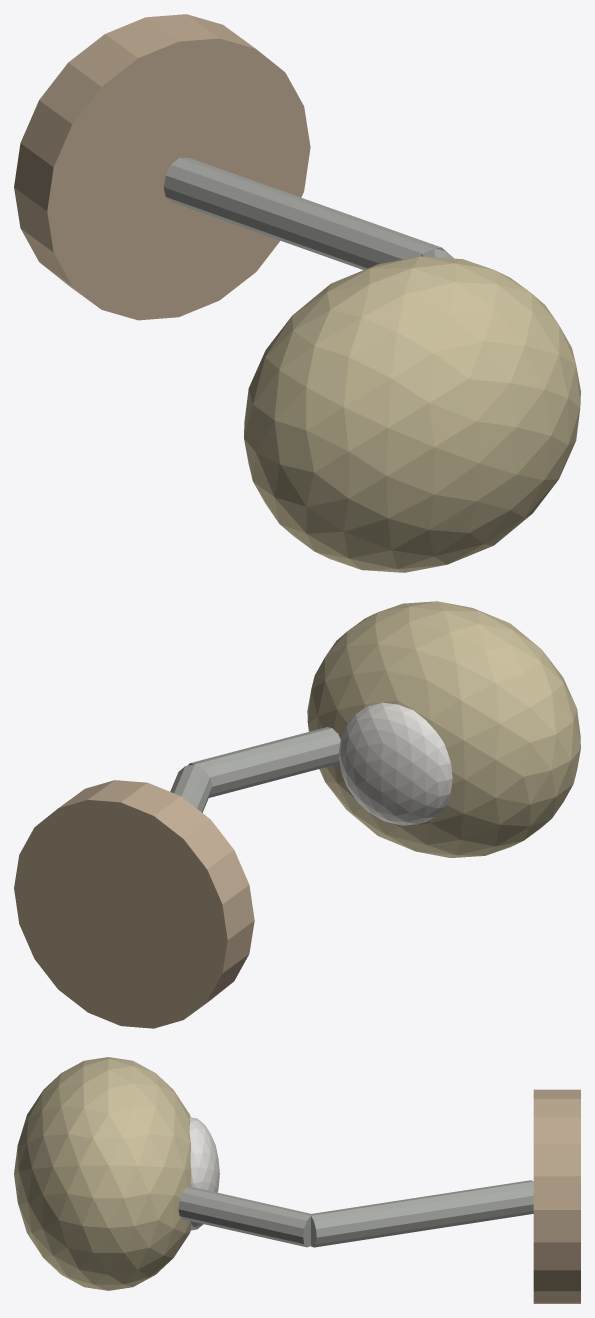
Rendered from desk_lamp.glb.
3 views of the same model, one above another, from view 1: azimuth 30°, elevation 25°; view 2: azimuth 150°, elevation 25°; view 3: azimuth 270°, elevation 25° (orthographic). The views are drawn at different scales.
Parts seen in each view (by area): view 1: shade, base, lower; view 2: base, shade, bulb, upper, lower; view 3: shade, base, lower, upper, bulb.
Boxes of the visible parts, box(x1,y1,x2,y2) form: shade: box(244, 256, 580, 572); base: box(14, 14, 310, 320); lower: box(163, 158, 445, 269); base: box(14, 780, 254, 1028); shade: box(307, 601, 580, 857); bulb: box(338, 702, 452, 825); upper: box(188, 727, 340, 797); lower: box(170, 764, 212, 812); shade: box(14, 1057, 191, 1290); base: box(533, 1089, 580, 1303); lower: box(311, 1180, 533, 1247); upper: box(178, 1186, 311, 1247); bulb: box(189, 1117, 219, 1230).
Bounding box in the file's own units: 0.43 × 0.34 × 0.84.
